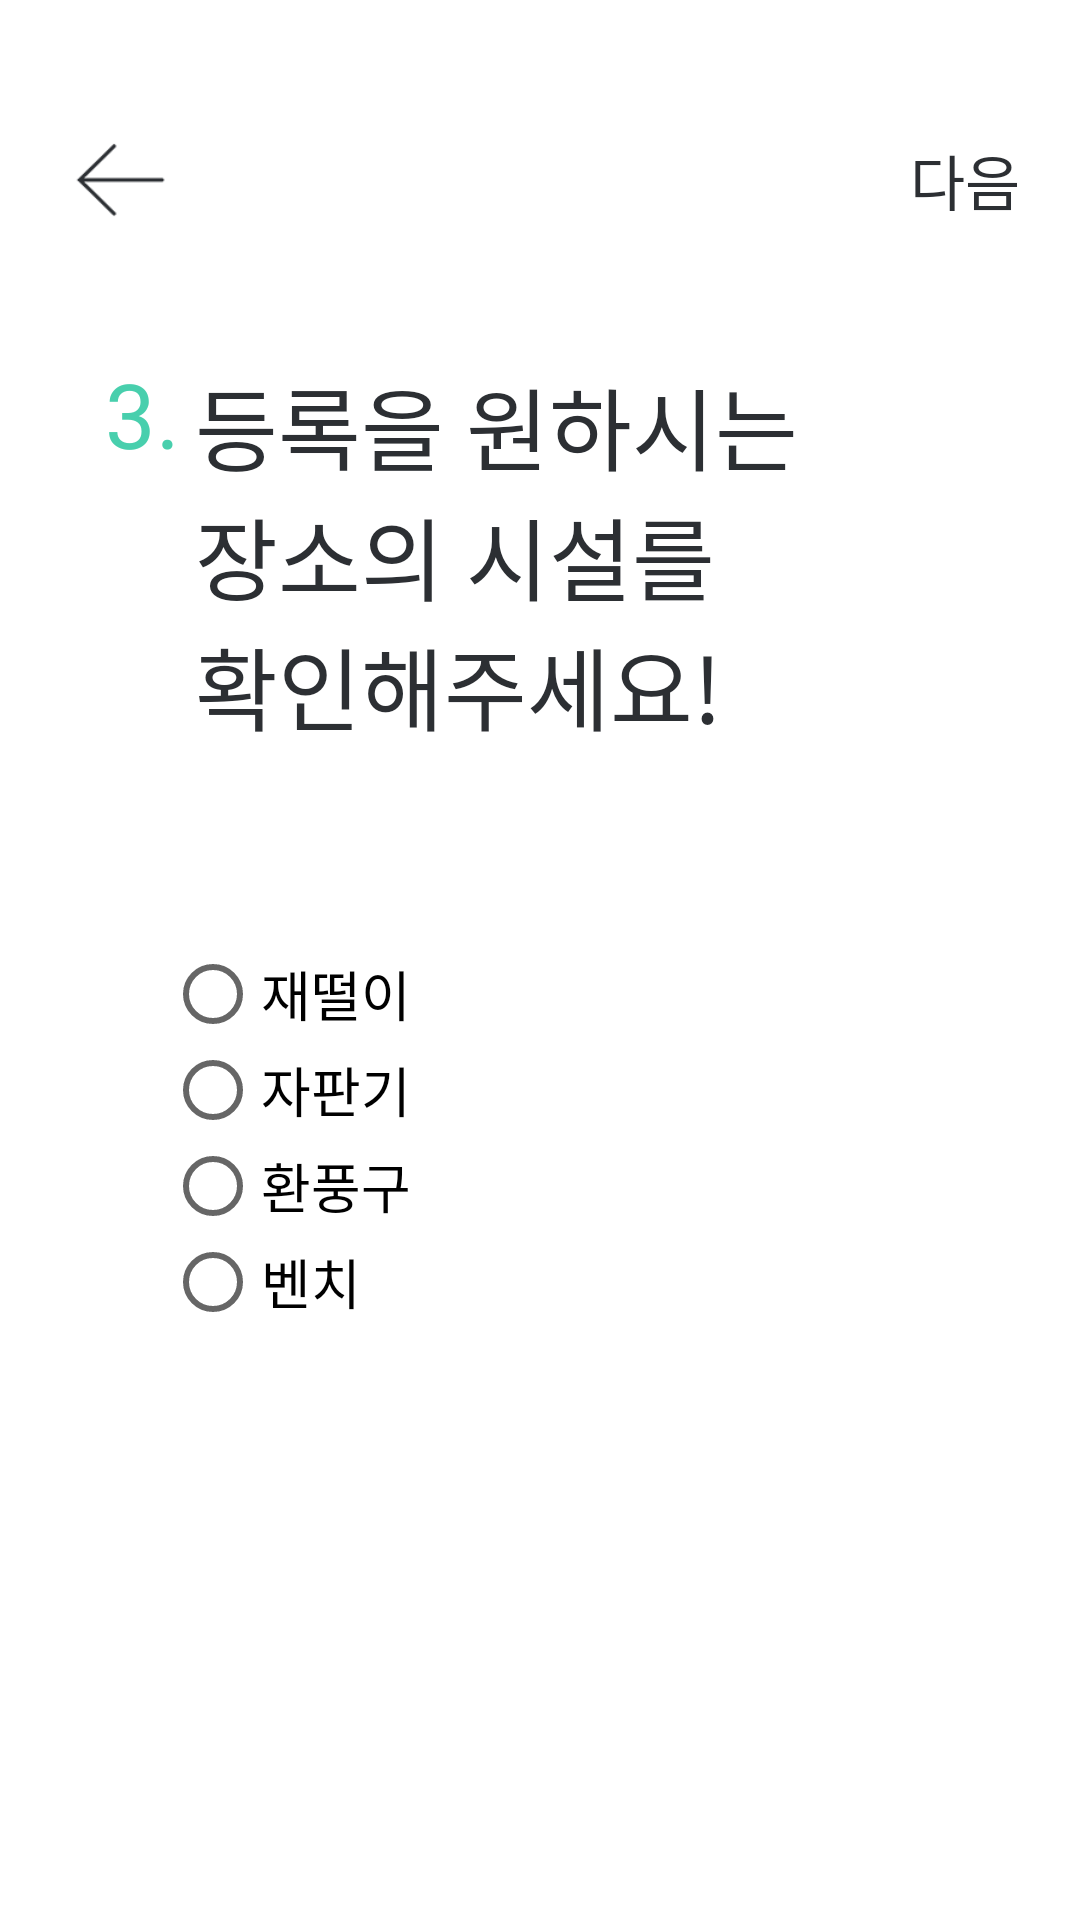

Where icons sit on this 1080 × 1920 app screen, as [left=x1, top=y1, right=x2, bottom=y2]:
back arrow: [left=77, top=144, right=165, bottom=216]
